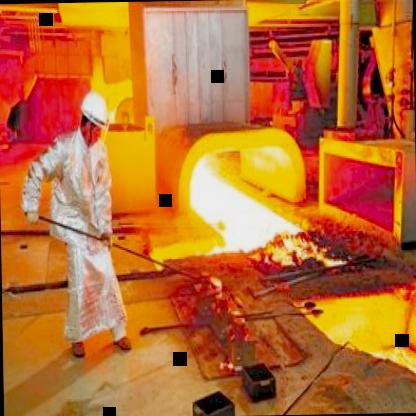helmet: (79, 87, 109, 150)
